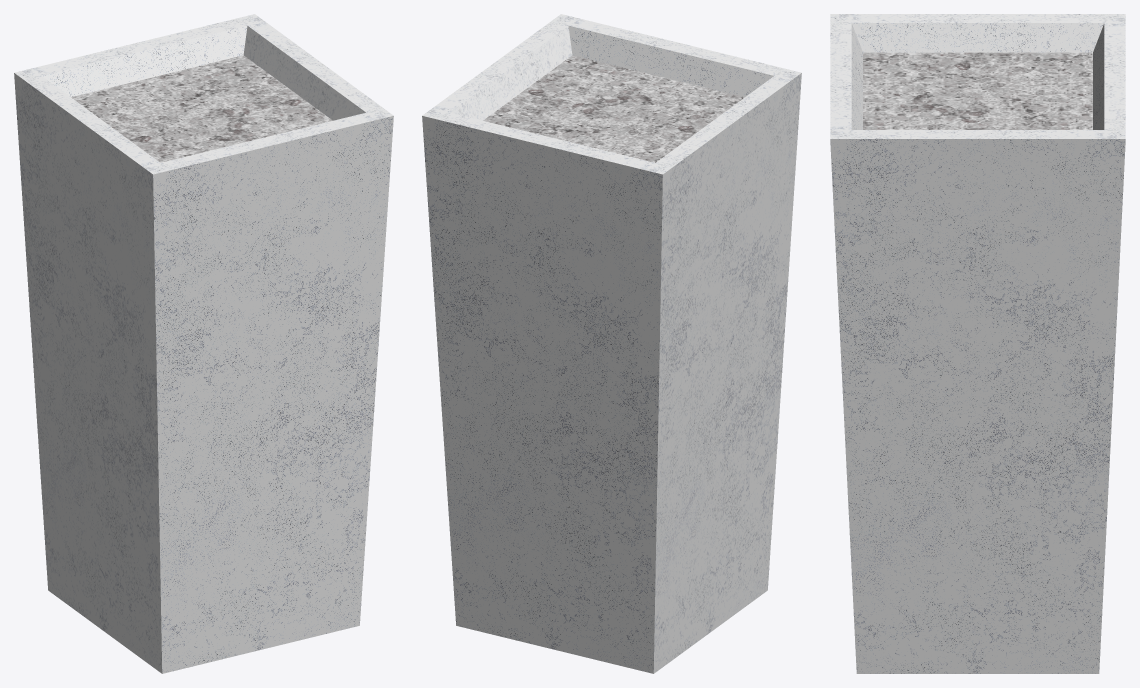
The model's file is Pot_B5.fbx.
3 views of the same model, side by side, from view 1: azimuth 30°, elevation 25°; view 2: azimuth 150°, elevation 25°; view 3: azimuth 270°, elevation 25° (orthographic). The views are drawn at different scales.
Visible parts, largest first — view 1: Pot_B5; view 2: Pot_B5; view 3: Pot_B5.
Boxes of the visible parts, left/top/right/bottom form: Pot_B5: left=14, top=14, right=393, bottom=673; Pot_B5: left=422, top=14, right=801, bottom=673; Pot_B5: left=830, top=14, right=1125, bottom=673.
Size of the model in its own units: 0.1177 by 0.2401 by 0.1177.
